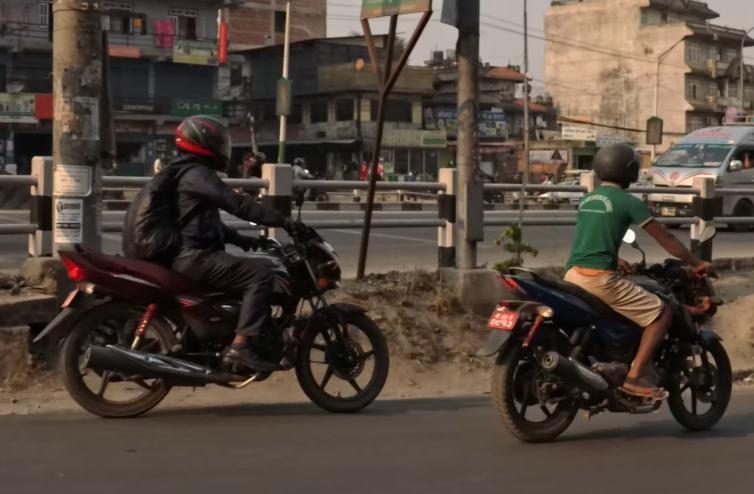bike: (20, 175, 398, 431), (471, 219, 744, 445)
